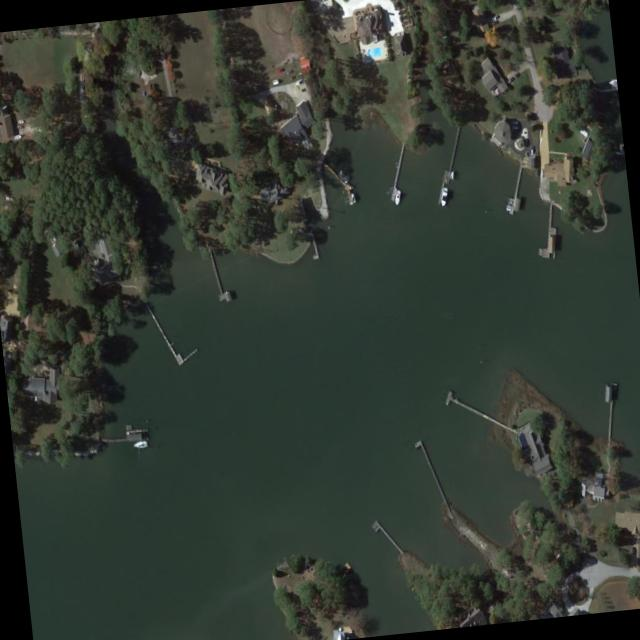ship: (440, 187, 448, 207), (393, 188, 400, 208), (131, 441, 146, 450), (348, 192, 356, 205), (11, 133, 22, 142), (14, 119, 24, 126)
small-vehicle: (286, 74, 295, 83), (283, 69, 292, 76), (528, 147, 533, 157)
